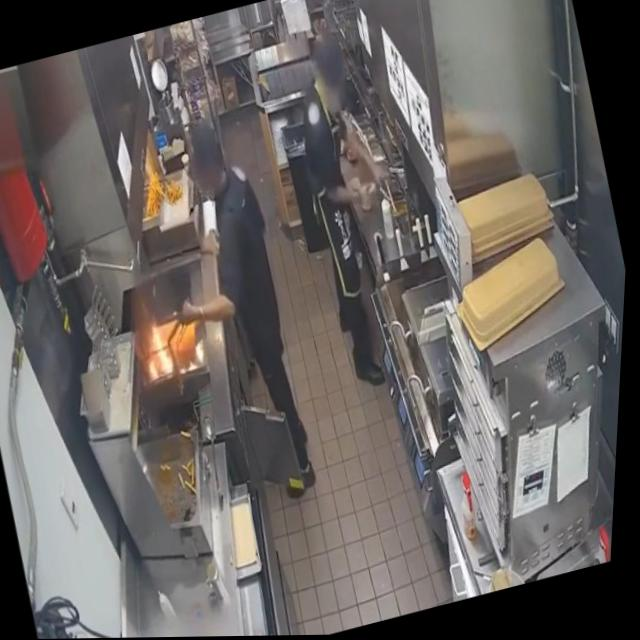fire: (139, 319, 184, 384)
